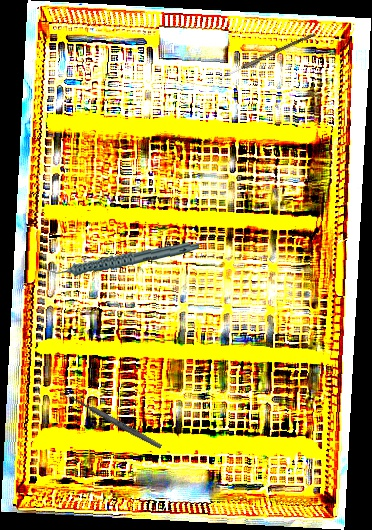Handpiece: (46, 234, 199, 283)
Surgical Spoon: (60, 389, 163, 450), (217, 30, 316, 83)
